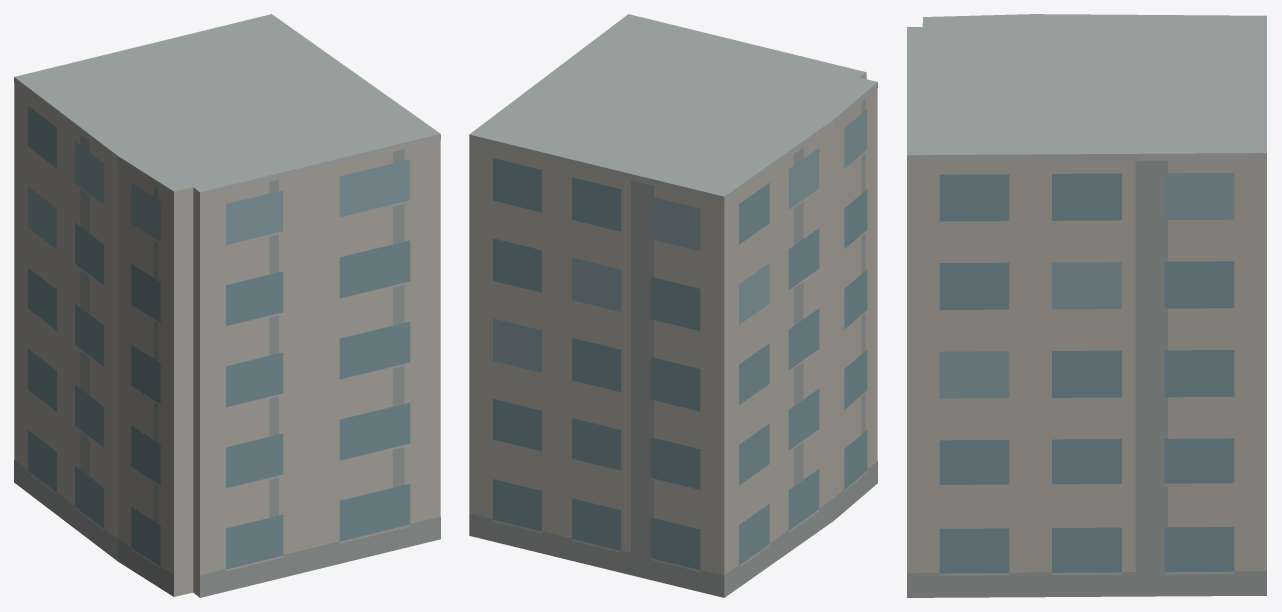
The model's file is survey-upis-32639803.glb.
The picture shows the model from 3 angles, left to right: view 1: azimuth 30°, elevation 25°; view 2: azimuth 150°, elevation 25°; view 3: azimuth 270°, elevation 25°; orthographic projection. The views are drawn at different scales.
Parts seen in each view (by area): view 1: survey-upis-32639803.tmp; view 2: survey-upis-32639803.tmp; view 3: survey-upis-32639803.tmp.
Part boxes in pixels (x1=…): survey-upis-32639803.tmp: x1=14, y1=14, x2=440, y2=597; survey-upis-32639803.tmp: x1=469, y1=14, x2=877, y2=597; survey-upis-32639803.tmp: x1=907, y1=14, x2=1266, y2=597.
Size of the model in its own units: 10.44 by 15.25 by 11.27.
